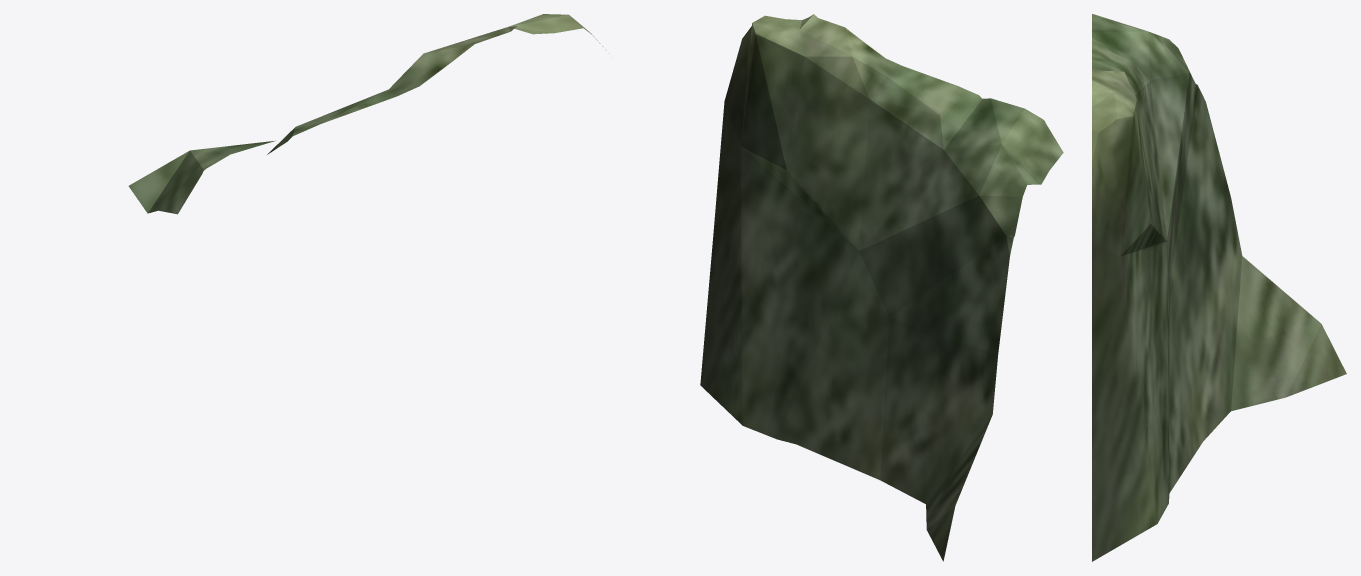
3 renders of one model, left to right at view 1: azimuth 30°, elevation 25°; view 2: azimuth 150°, elevation 25°; view 3: azimuth 270°, elevation 25°, orthographic. The views are drawn at different scales.
Bounding box in the file's own units: 2.1 × 2.2 × 1.2.
1 material, 1 textured.
